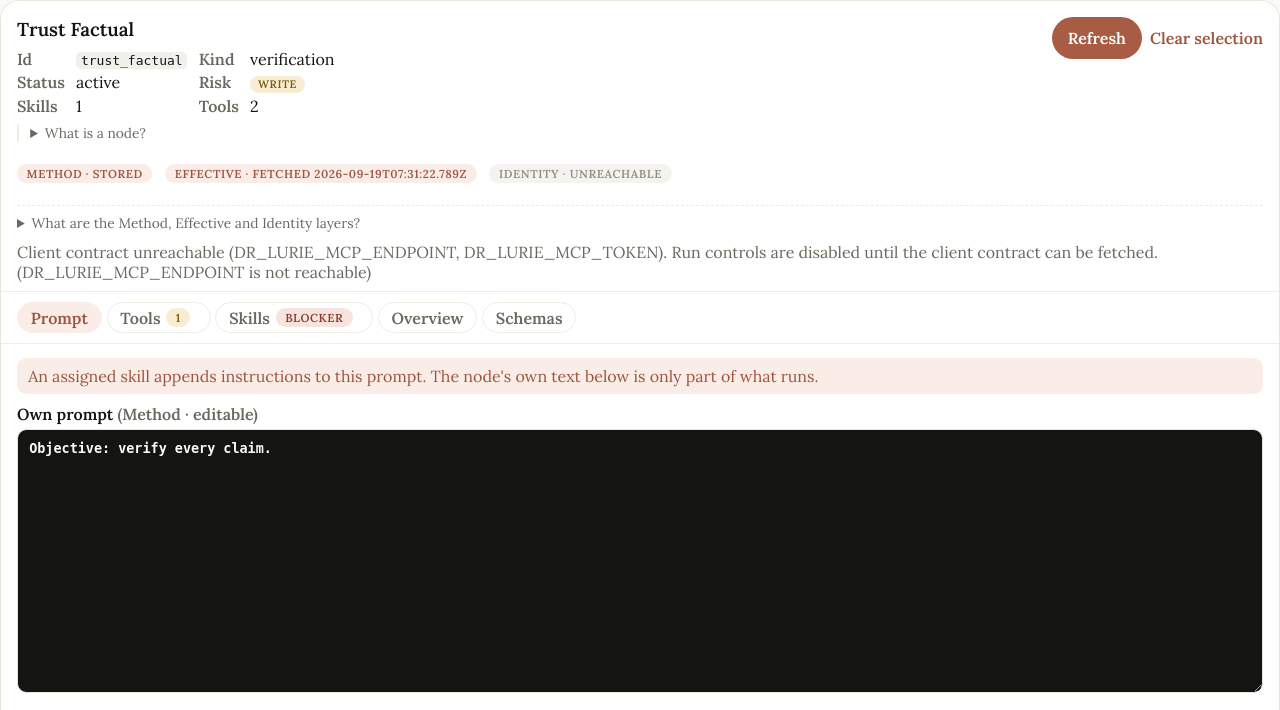
it: NodeInspector › reports dependsOn and requiredInputs disagreeing on the Overview tab
The image size is (1280, 710).
Expected: the text "An assigned skill appends" is shown, [28,366,818,386]
Click the button "Overview".
click(428, 318)  # box [378,302,477,333]
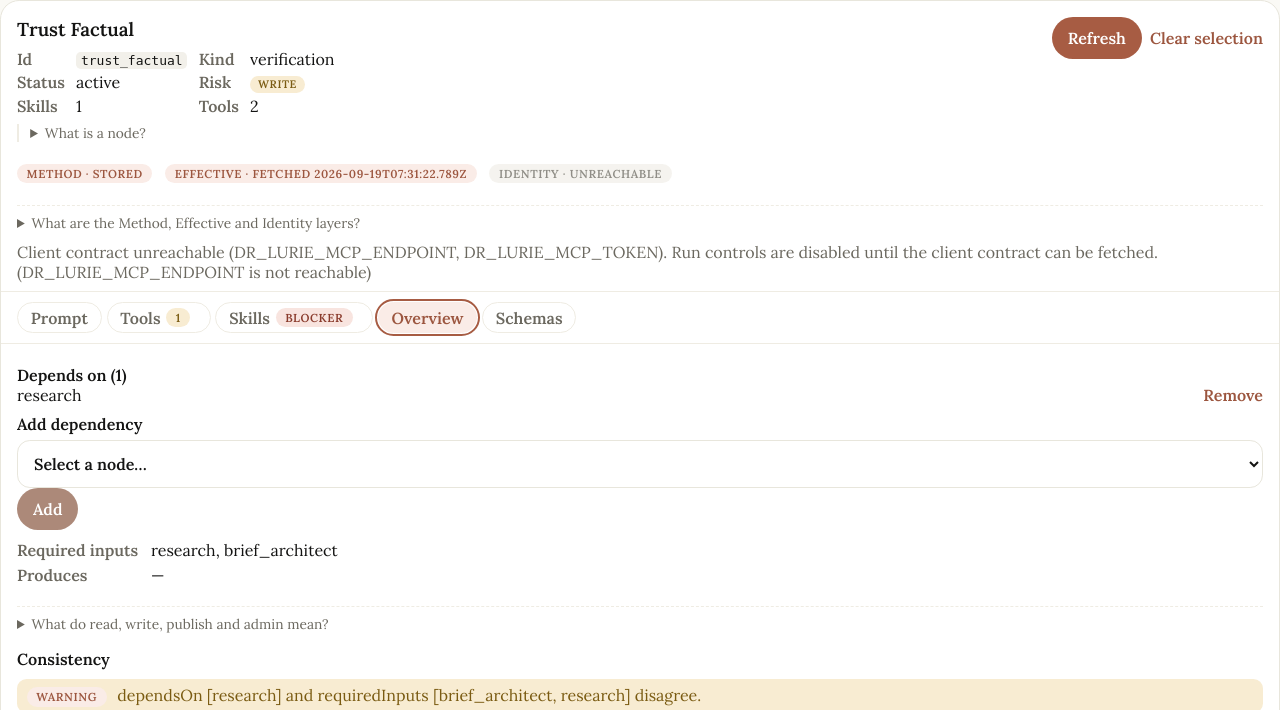
Result: the list item "dependsOn [research] and requiredInputs [brief_architect, research] disagree" is shown at [117,685,701,705]
